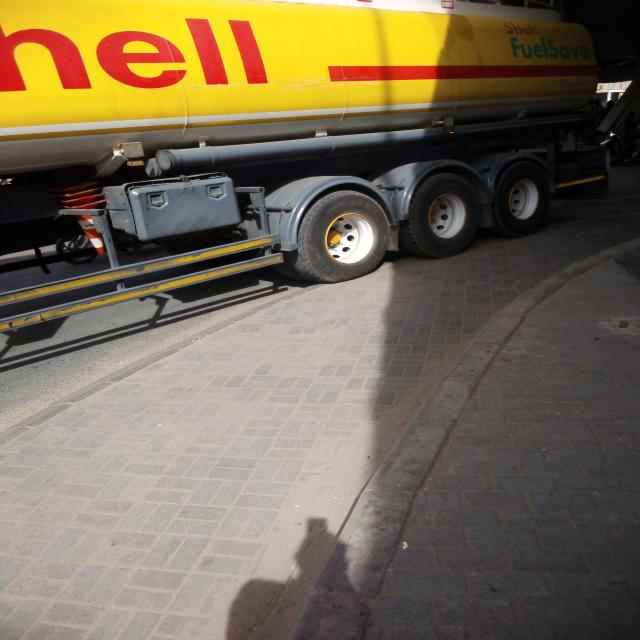camion: (1, 1, 609, 331)
